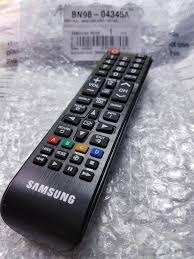remote control: (0, 31, 153, 248)
